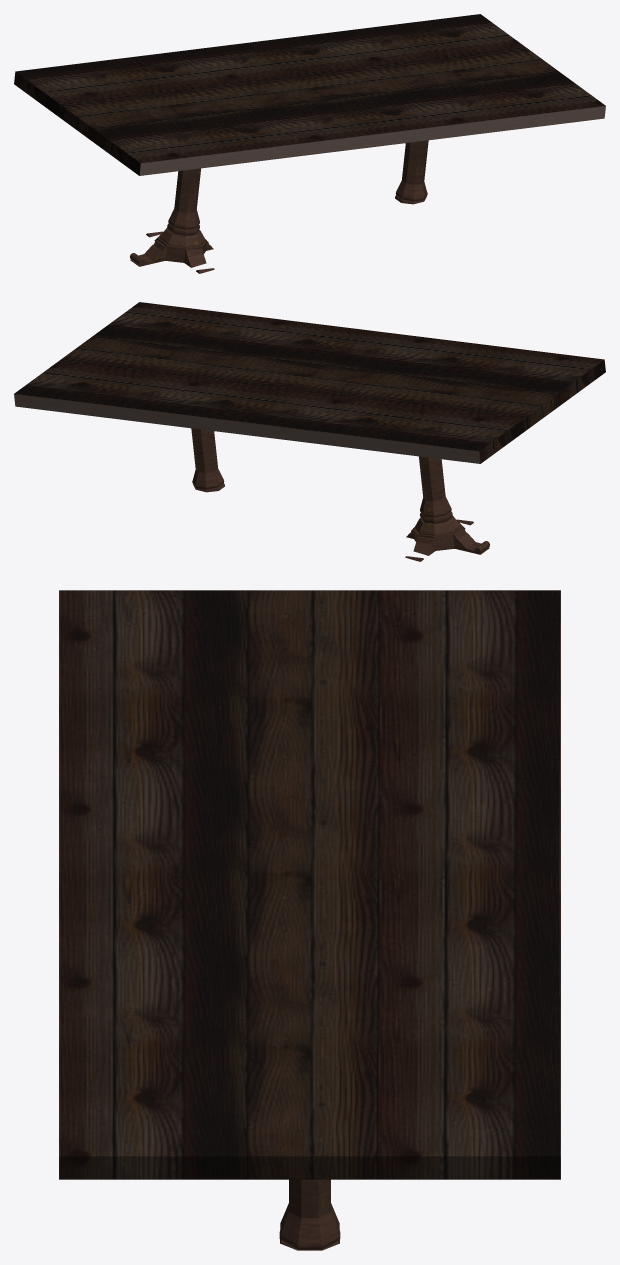
Rendered from sonmasa.fbx.
The picture shows the model from 3 angles, top to bottom: view 1: azimuth 30°, elevation 25°; view 2: azimuth 150°, elevation 25°; view 3: azimuth 270°, elevation 25°; orthographic projection. The views are drawn at different scales.
Visible parts, largest first — view 1: Medieval Table; view 2: Medieval Table; view 3: Medieval Table.
Boxes of the visible parts, box(x1,y1,x2,y2) form: Medieval Table: box(14, 14, 605, 273); Medieval Table: box(14, 302, 605, 561); Medieval Table: box(59, 590, 560, 1250).
Size of the model in its own units: 195 by 64.47 by 90.81.
